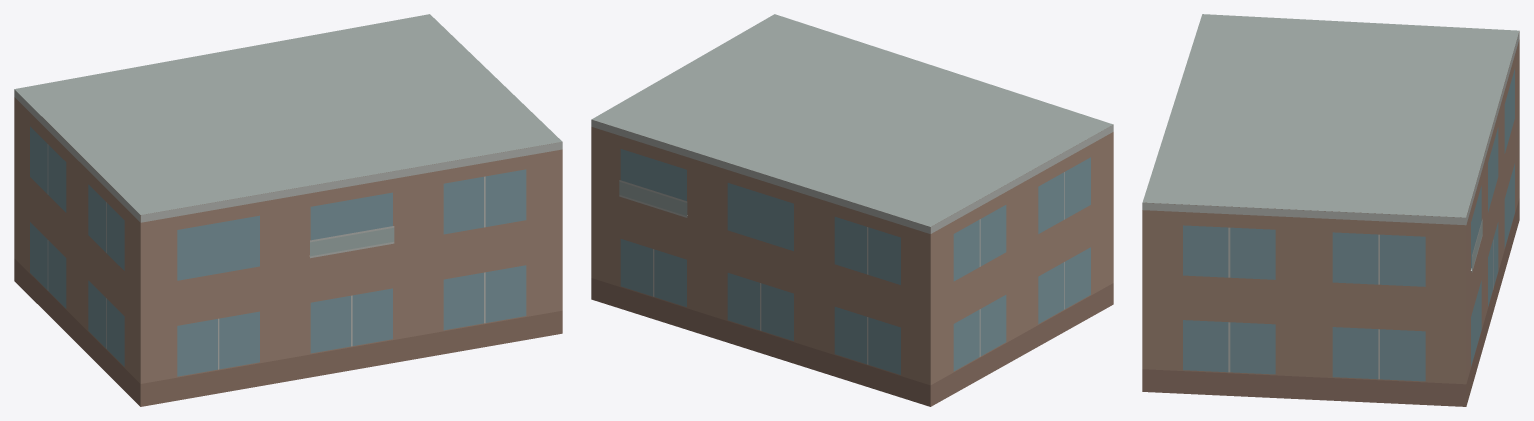
File: survey-upis-32812813.glb
3 views of the same model, side by side, from view 1: azimuth 30°, elevation 25°; view 2: azimuth 150°, elevation 25°; view 3: azimuth 270°, elevation 25° (orthographic). The views are drawn at different scales.
Parts seen in each view (by area): view 1: survey-upis-32812813.tmp; view 2: survey-upis-32812813.tmp; view 3: survey-upis-32812813.tmp.
Boxes of the visible parts, box(x1,y1,x2,y2) form: survey-upis-32812813.tmp: box(14, 14, 562, 406); survey-upis-32812813.tmp: box(591, 14, 1113, 406); survey-upis-32812813.tmp: box(1142, 14, 1519, 406).
Size of the model in its own units: 14.09 by 6.1 by 11.03.
